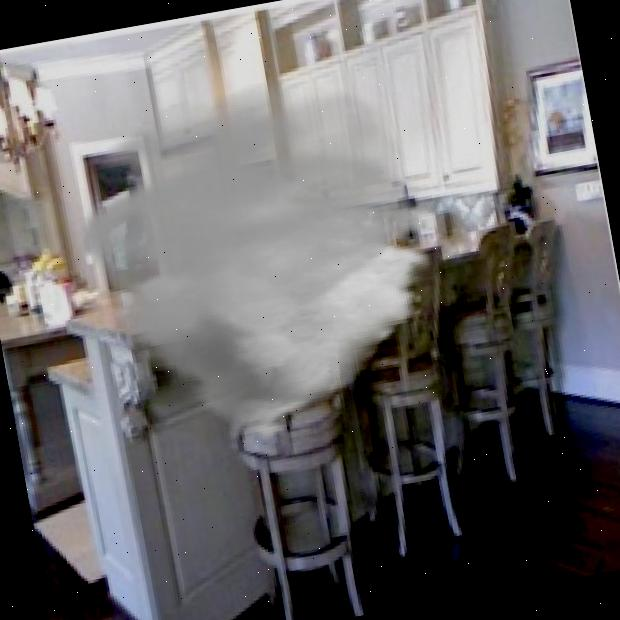smoke: (53, 57, 469, 468)
